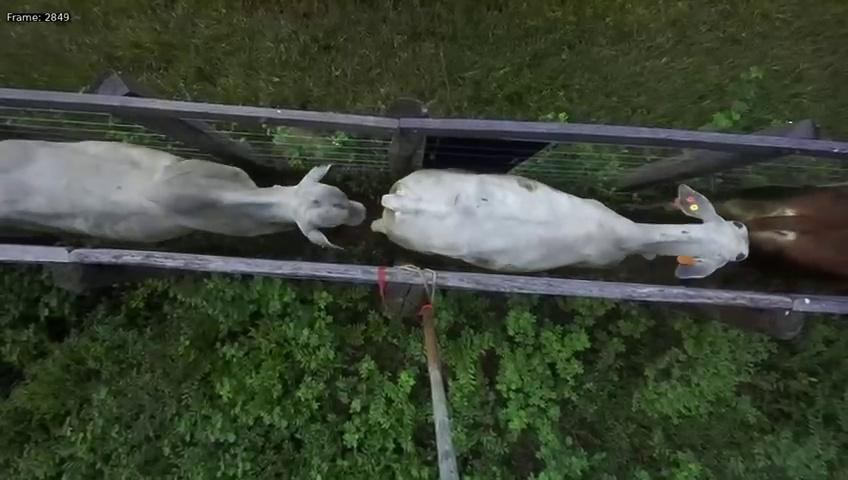cattle: (377, 158, 752, 287), (1, 134, 366, 255)
